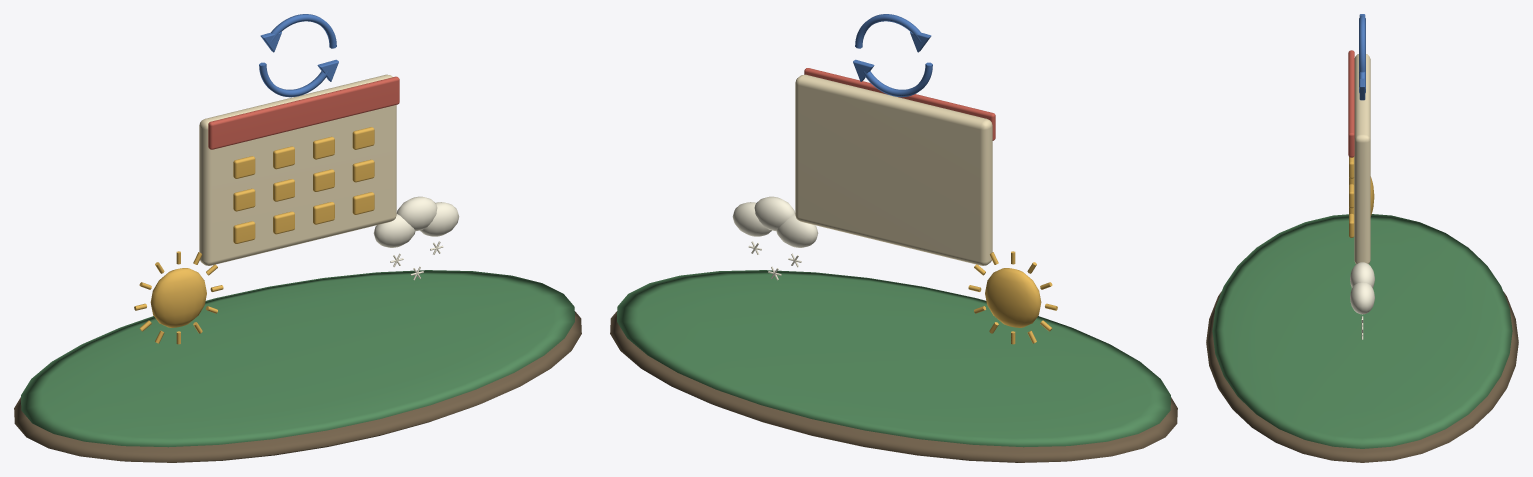
The model's file is complete-first-year-cycle.glb.
3 views of the same model, side by side, from view 1: azimuth 30°, elevation 25°; view 2: azimuth 150°, elevation 25°; view 3: azimuth 270°, elevation 25° (orthographic). The views are drawn at different scales.
Visible parts, largest first — view 1: complete-first-year-cycle_surface_01, complete-first-year-cycle_surface_02, complete-first-year-cycle_surface_00, complete-first-year-cycle_surface_04, complete-first-year-cycle_surface_03, complete-first-year-cycle_surface_06, complete-first-year-cycle_surface_05; view 2: complete-first-year-cycle_surface_01, complete-first-year-cycle_surface_02, complete-first-year-cycle_surface_00, complete-first-year-cycle_surface_04, complete-first-year-cycle_surface_06, complete-first-year-cycle_surface_05, complete-first-year-cycle_surface_03; view 3: complete-first-year-cycle_surface_01, complete-first-year-cycle_surface_00, complete-first-year-cycle_surface_02, complete-first-year-cycle_surface_06, complete-first-year-cycle_surface_03, complete-first-year-cycle_surface_04, complete-first-year-cycle_surface_05.
Part boxes in pixels (x1,y1,x2,y2): complete-first-year-cycle_surface_01: [21, 270, 574, 447]; complete-first-year-cycle_surface_02: [199, 74, 396, 265]; complete-first-year-cycle_surface_00: [14, 311, 581, 462]; complete-first-year-cycle_surface_04: [134, 127, 374, 344]; complete-first-year-cycle_surface_03: [208, 76, 399, 149]; complete-first-year-cycle_surface_06: [373, 196, 459, 280]; complete-first-year-cycle_surface_05: [259, 14, 338, 97]; complete-first-year-cycle_surface_01: [617, 270, 1170, 447]; complete-first-year-cycle_surface_02: [795, 74, 992, 265]; complete-first-year-cycle_surface_00: [610, 311, 1177, 462]; complete-first-year-cycle_surface_04: [968, 251, 1057, 344]; complete-first-year-cycle_surface_06: [732, 196, 818, 280]; complete-first-year-cycle_surface_05: [853, 14, 932, 97]; complete-first-year-cycle_surface_03: [804, 68, 995, 140]; complete-first-year-cycle_surface_01: [1212, 214, 1512, 448]; complete-first-year-cycle_surface_00: [1206, 291, 1518, 462]; complete-first-year-cycle_surface_02: [1354, 54, 1370, 263]; complete-first-year-cycle_surface_06: [1350, 262, 1374, 339]; complete-first-year-cycle_surface_03: [1348, 50, 1354, 157]; complete-first-year-cycle_surface_04: [1349, 157, 1374, 237]; complete-first-year-cycle_surface_05: [1359, 14, 1365, 100].
Size of the model in its own units: 4.56 by 2.98 by 2.5.
